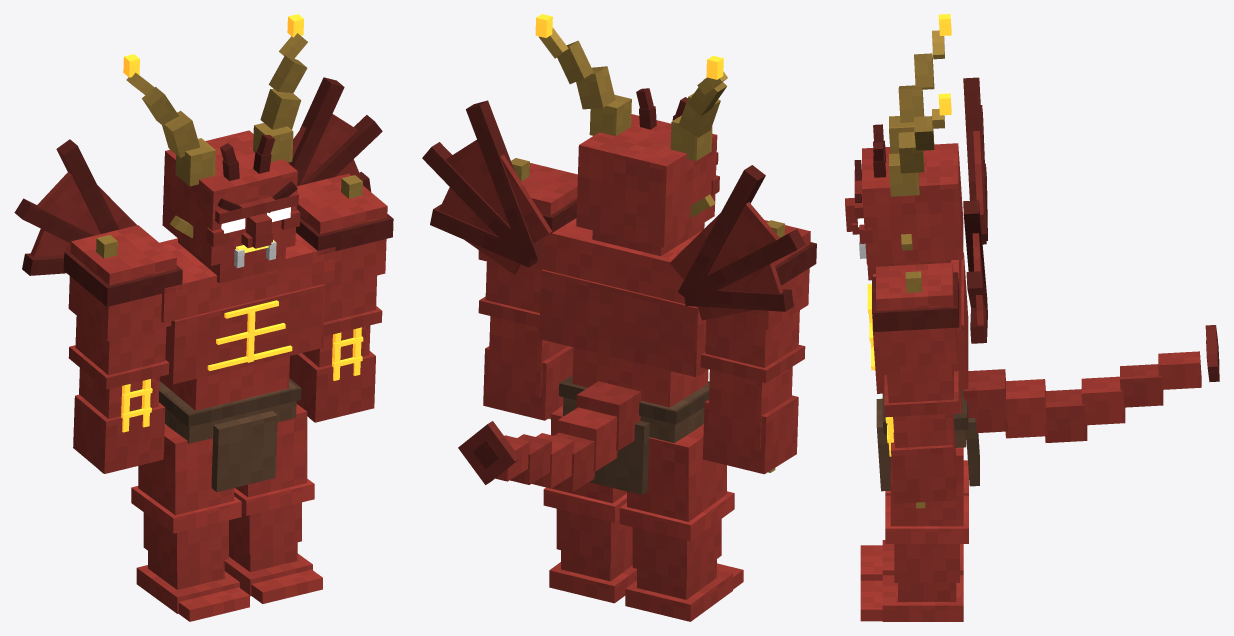
File: demon_base_evo2.glb
The picture shows the model from 3 angles, left to right: view 1: azimuth 30°, elevation 25°; view 2: azimuth 150°, elevation 25°; view 3: azimuth 270°, elevation 25°; orthographic projection. The views are drawn at different scales.
Visible parts, largest first — view 1: Torso, Head, ArmR, ArmL, LegR, LegL; view 2: Torso, Head, ArmR, LegR, ArmL, LegL; view 3: Torso, ArmL, Head, LegL, LegR.
Part boxes in pixels (left/top/right/bottom): Torso: left=14, top=77, right=382, bottom=492; Head: left=123, top=14, right=307, bottom=283; ArmR: left=63, top=225, right=182, bottom=473; ArmL: left=289, top=173, right=393, bottom=422; LegR: left=131, top=424, right=249, bottom=621; LegL: left=224, top=404, right=322, bottom=603; Torso: left=422, top=100, right=805, bottom=494; Head: left=535, top=14, right=727, bottom=256; ArmR: left=700, top=220, right=816, bottom=474; LegR: left=619, top=424, right=743, bottom=621; ArmL: left=478, top=158, right=577, bottom=420; LegL: left=543, top=405, right=636, bottom=603; Torso: left=867, top=77, right=1219, bottom=491; ArmL: left=872, top=262, right=959, bottom=508; Head: left=845, top=14, right=963, bottom=280; LegL: left=860, top=447, right=968, bottom=621; LegR: left=860, top=460, right=968, bottom=580.
Size of the model in its own units: 1.58 by 2.25 by 1.44.
Materials: 30 (30 with a texture image).
